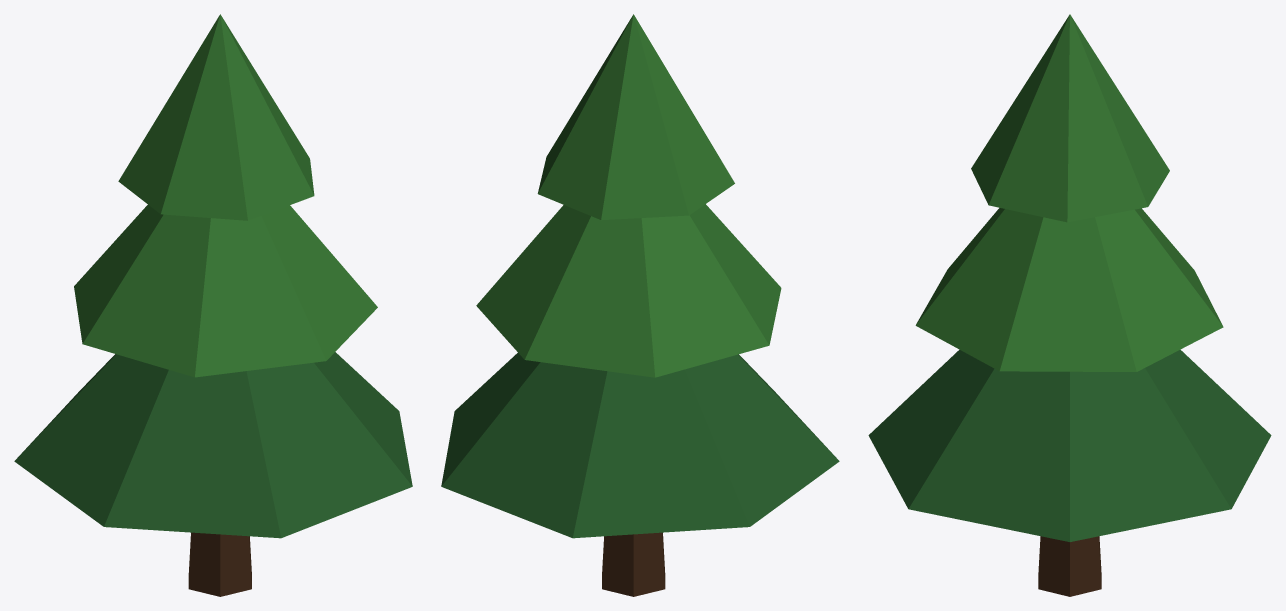
File: tree_pine.glb
3 views of the same model, side by side, from view 1: azimuth 30°, elevation 25°; view 2: azimuth 150°, elevation 25°; view 3: azimuth 270°, elevation 25° (orthographic).
Parts seen in each view (by area): view 1: tree_pine; view 2: tree_pine; view 3: tree_pine.
Part boxes in pixels (<box>): tree_pine: <box>14,14,412,596</box>; tree_pine: <box>441,14,839,596</box>; tree_pine: <box>868,14,1271,596</box>.
Bounding box in the file's own units: 1.62 × 2.58 × 1.66.
